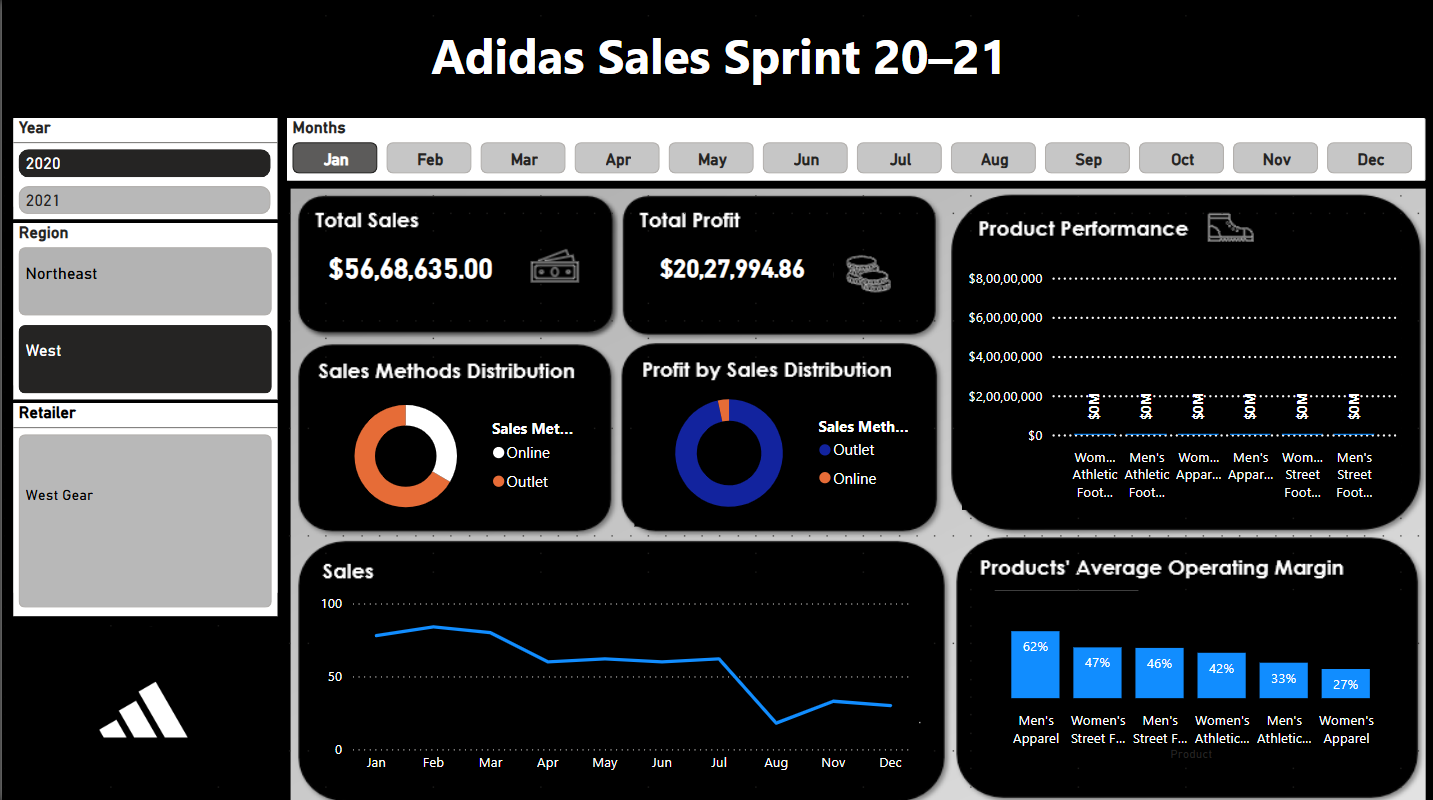

The dashboard page shown, as its layout file describes it:
{"tool":"powerbi","page":{"name":"Page 2","canvas":[1280,720],"ordinal":1},"visuals":[{"type":"advancedSlicerVisual","title":"Months","fields":{"Values":["DateTable.Month"]},"box":[254.3,107.1,1015.7,55.7],"z":0},{"type":"card","fields":{"Values":["Sum(Data Sales Adidas.Total Sales)"]},"box":[267.1,215.7,197.1,51.4],"z":1000},{"type":"card","fields":{"Values":["Sum(Data Sales Adidas.Operating Profit)"]},"box":[562.5,215.4,179.7,51.7],"z":2000},{"type":"donutChart","fields":{"Category":["Data Sales Adidas.Sales Method"],"Y":["CountNonNull(Data Sales Adidas.Operating Profit)"]},"box":[278.6,347.1,241.4,124.3],"z":3000},{"type":"donutChart","fields":{"Category":["Data Sales Adidas.Sales Method"],"Y":["Sum(Data Sales Adidas.Operating Profit)"]},"box":[564.3,341.4,254.3,130],"z":4000},{"type":"columnChart","fields":{"Category":["Data Sales Adidas.Product"],"Y":["Sum(Data Sales Adidas.Operating Profit)"]},"box":[857.1,218.6,392.9,238.6],"z":5000},{"type":"columnChart","fields":{"Category":["Data Sales Adidas.Product"],"Y":["Data Sales Adidas.Avg Operating Margin (%)"]},"box":[867.1,528.6,382.9,157.1],"z":6000},{"type":"lineChart","fields":{"Y":["CountNonNull(Data Sales Adidas.Total Sales)"],"Category":["DateTable.Month"]},"box":[278.6,527.1,540,174.3],"z":7000},{"type":"advancedSlicerVisual","fields":{"Values":["Data Sales Adidas.Year"]},"box":[10,107.1,235.7,90],"z":8000},{"type":"advancedSlicerVisual","fields":{"Values":["Data Sales Adidas.Retailer"]},"box":[9.8,361.8,236.3,190.8],"z":9000},{"type":"advancedSlicerVisual","fields":{"Values":["Data Sales Adidas.Region"]},"box":[9.8,200.6,236.3,157.5],"z":10000},{"type":"textbox","box":[187.1,17.2,905.8,83.7],"z":11000},{"type":"shape","box":[0,0,201.8,100.9],"z":12000},{"type":"shape","box":[1078.2,0,201.8,100.9],"z":13000},{"type":"shape","box":[12.3,561.2,233.8,137.8],"z":14000},{"type":"image","box":[38.2,577.2,177.2,116.9],"z":15000}]}

Visuals, with their boxes in screenshot pixels (x1, y1, x2, y2), scaled from the page's 1280x720 canvas onto the 1433x800 screenshot:
"Months" advancedSlicerVisual: x1=285 y1=119 x2=1422 y2=181
card - Sum(Data Sales Adidas.Total Sales): x1=299 y1=240 x2=520 y2=297
card - Sum(Data Sales Adidas.Operating Profit): x1=630 y1=239 x2=831 y2=297
donutChart - Data Sales Adidas.Sales Method x CountNonNull(Data Sales Adidas.Operating Profit): x1=312 y1=386 x2=582 y2=524
donutChart - Data Sales Adidas.Sales Method x Sum(Data Sales Adidas.Operating Profit): x1=632 y1=379 x2=916 y2=524
columnChart - Data Sales Adidas.Product x Sum(Data Sales Adidas.Operating Profit): x1=960 y1=243 x2=1399 y2=508
columnChart - Data Sales Adidas.Product x Data Sales Adidas.Avg Operating Margin (%): x1=971 y1=587 x2=1399 y2=762
lineChart - CountNonNull(Data Sales Adidas.Total Sales) x DateTable.Month: x1=312 y1=586 x2=916 y2=779
advancedSlicerVisual - Data Sales Adidas.Year: x1=11 y1=119 x2=275 y2=219
advancedSlicerVisual - Data Sales Adidas.Retailer: x1=11 y1=402 x2=276 y2=614
advancedSlicerVisual - Data Sales Adidas.Region: x1=11 y1=223 x2=276 y2=398
textbox: x1=209 y1=19 x2=1224 y2=112
shape: x1=0 y1=0 x2=226 y2=112
shape: x1=1207 y1=0 x2=1432 y2=112
shape: x1=14 y1=624 x2=276 y2=777
image: x1=43 y1=641 x2=241 y2=771
